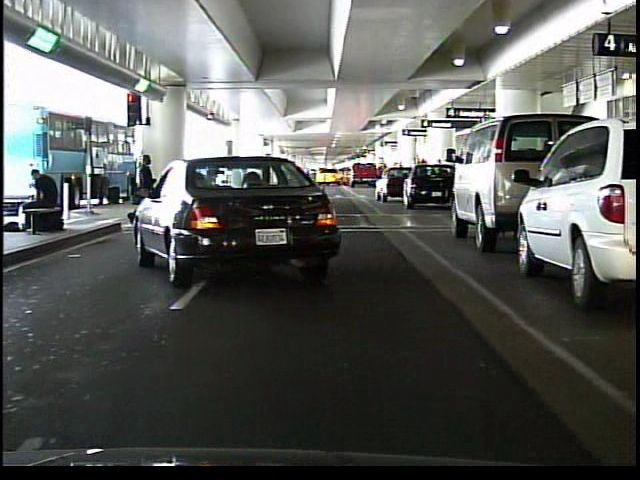person: (24, 165, 62, 239), (128, 150, 160, 231)
